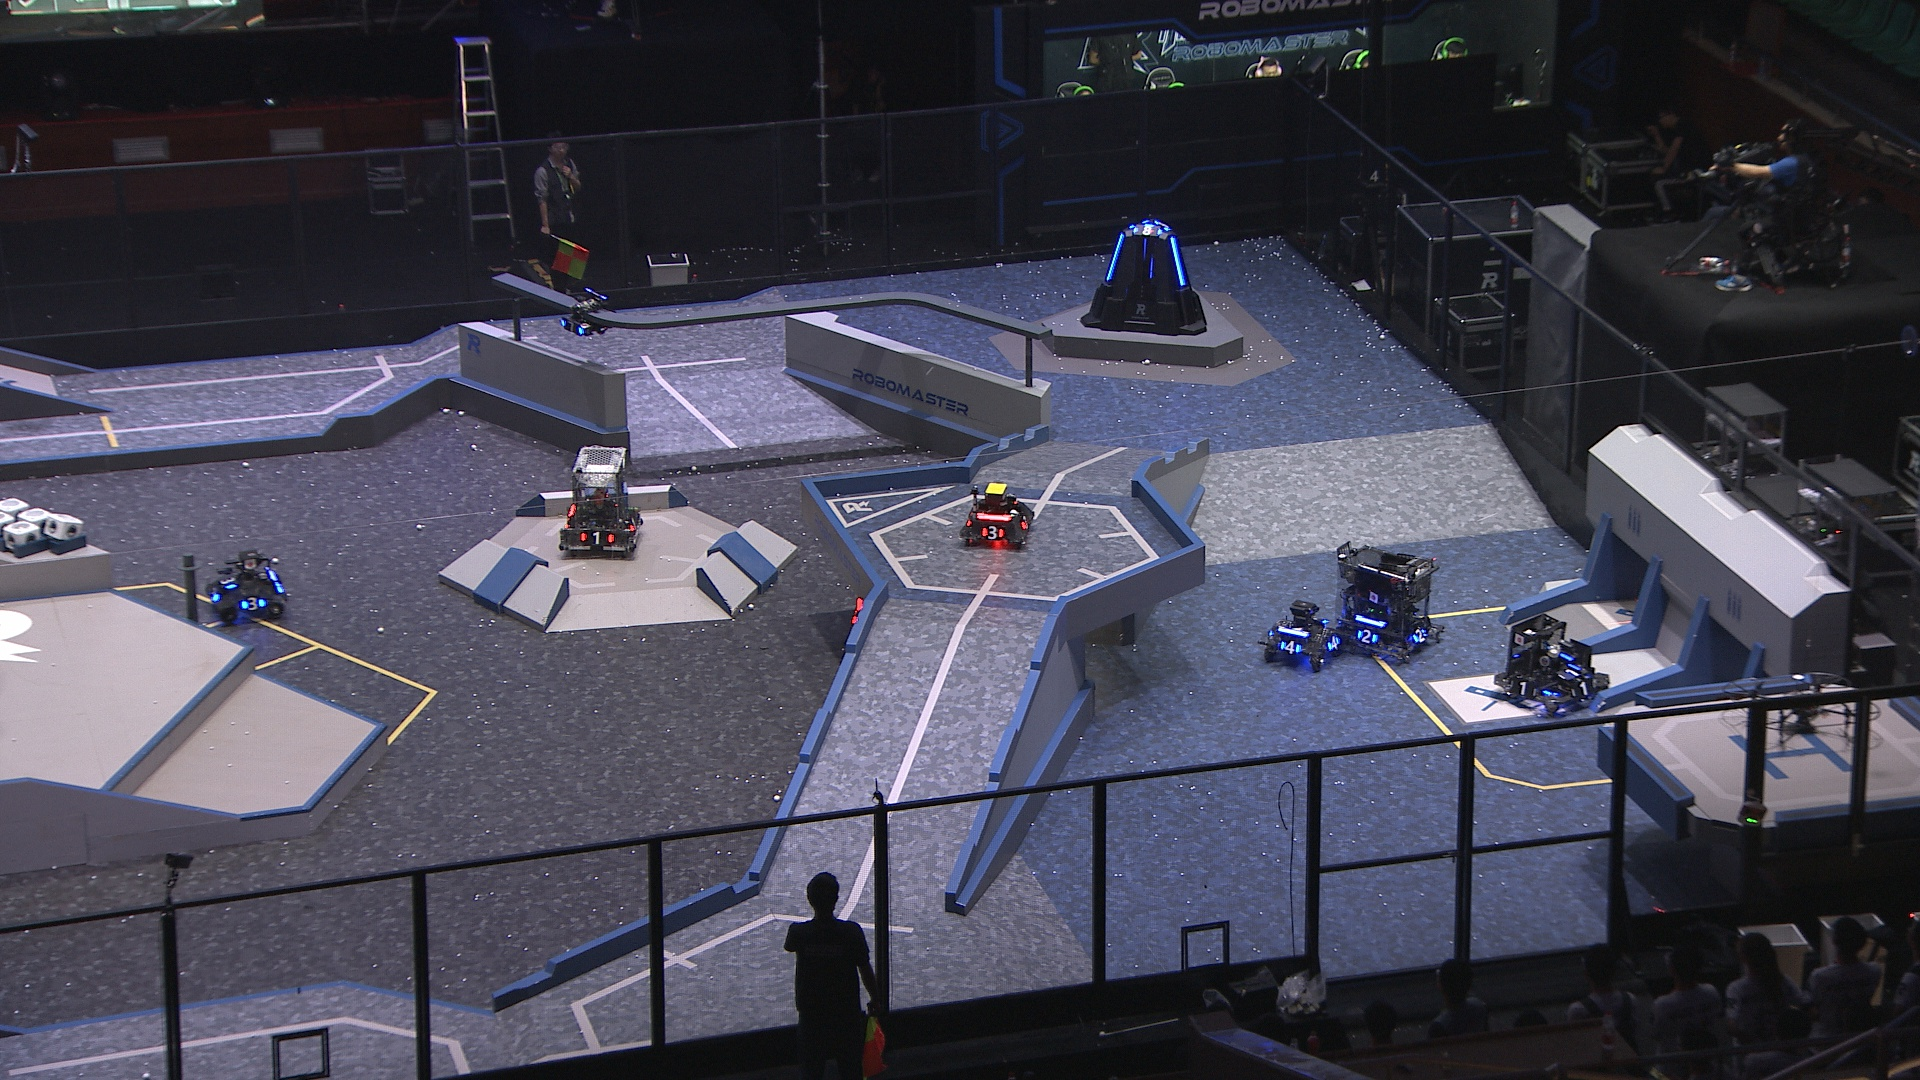armor: (1101, 232, 1127, 284), (1168, 233, 1188, 287), (576, 531, 615, 547), (1509, 678, 1539, 698), (558, 318, 585, 338), (1556, 661, 1584, 680), (1571, 678, 1596, 699), (978, 524, 1006, 541), (1276, 637, 1302, 655), (239, 595, 266, 611), (1408, 626, 1429, 646), (1131, 225, 1164, 237), (1356, 626, 1378, 644), (216, 574, 239, 589), (1327, 633, 1342, 654), (1019, 510, 1033, 531), (626, 514, 640, 534), (206, 585, 220, 603), (1141, 237, 1150, 262)
base: (1079, 220, 1207, 334)
car: (1328, 538, 1447, 666), (1493, 612, 1617, 717), (558, 443, 645, 559), (1259, 595, 1346, 673), (202, 549, 291, 622), (961, 480, 1035, 550)
watcher: (555, 286, 611, 339)
